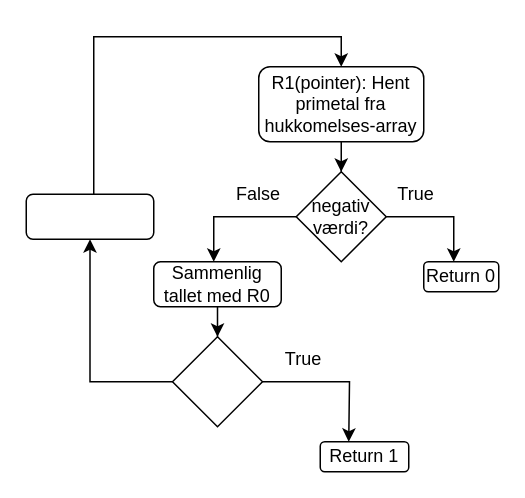
Image size: 525x498. Some labels were removed from this diagram. The shapes that lost their labels are listed below. From the top down, each one's centre as x and y in pixels, then its label:
[89,216]: læg 1 til pointeren (R1)
[216,381]: Er de ens
